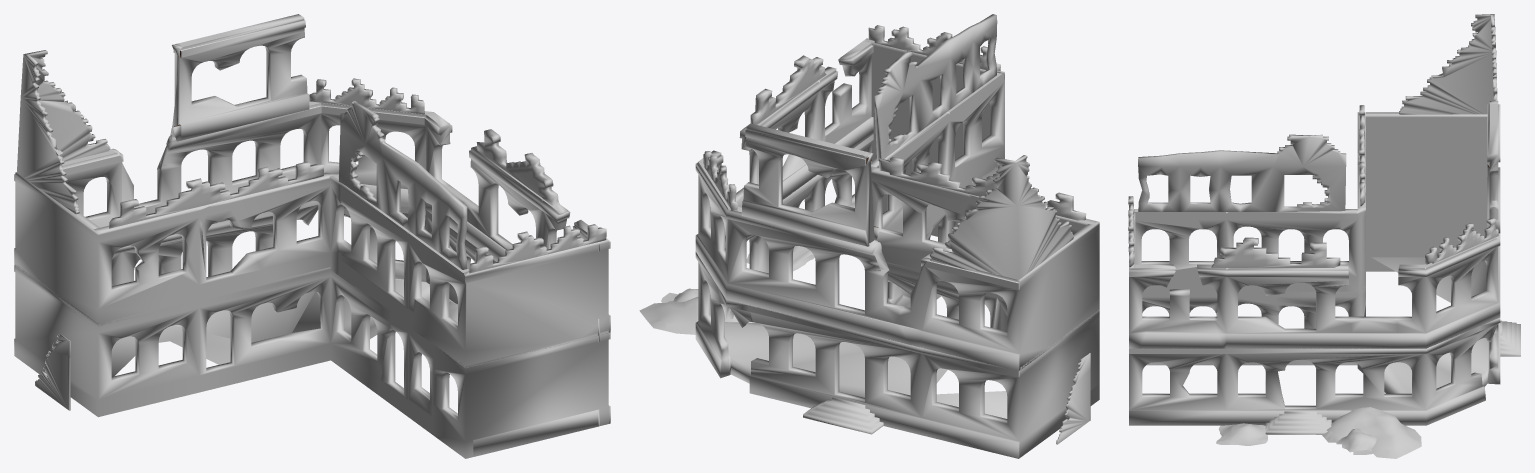
File: angleHouse1_LOD1.fbx
3 renders of one model, left to right at view 1: azimuth 30°, elevation 25°; view 2: azimuth 150°, elevation 25°; view 3: azimuth 270°, elevation 25°, orthographic. The views are drawn at different scales.
Parts seen in each view (by area): view 1: angleHouse1_LOD1; view 2: angleHouse1_LOD1; view 3: angleHouse1_LOD1.
Part boxes in pixels (left/top/right/bottom): angleHouse1_LOD1: left=14, top=14, right=610, bottom=458; angleHouse1_LOD1: left=639, top=14, right=1099, bottom=458; angleHouse1_LOD1: left=1128, top=14, right=1520, bottom=458.
Bounding box in the file's own units: 19.45 × 12.33 × 16.78.
